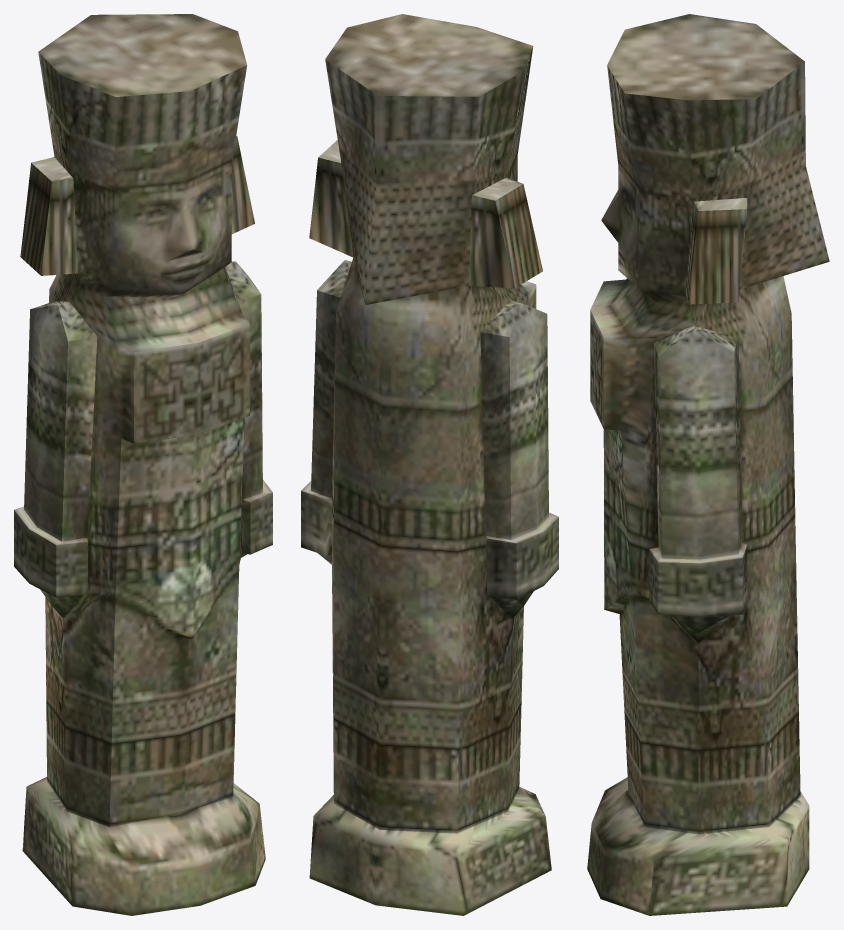
The model's file is ASTAT.glb.
3 views of the same model, side by side, from view 1: azimuth 30°, elevation 25°; view 2: azimuth 150°, elevation 25°; view 3: azimuth 270°, elevation 25° (orthographic).
Visible parts, largest first — view 1: _ASTAT; view 2: _ASTAT; view 3: _ASTAT.
Boxes of the visible parts, x1,y1,x2,y2 form: _ASTAT: (14, 14, 272, 915); _ASTAT: (301, 14, 558, 915); _ASTAT: (587, 14, 829, 915).
Size of the model in its own units: 1.16 by 3.94 by 1.07.
Materials: 1 (1 with a texture image).
